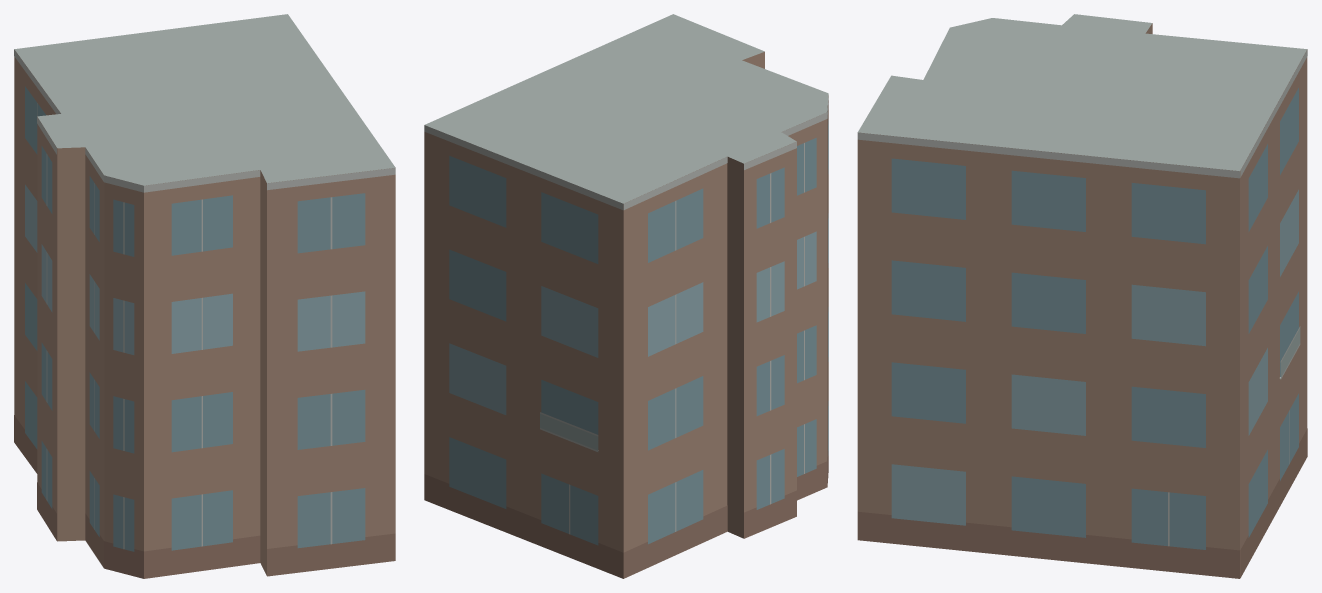
File: survey-upis-32970142.glb
3 views of the same model, side by side, from view 1: azimuth 30°, elevation 25°; view 2: azimuth 150°, elevation 25°; view 3: azimuth 270°, elevation 25° (orthographic). The views are drawn at different scales.
Parts seen in each view (by area): view 1: survey-upis-32970142.tmp; view 2: survey-upis-32970142.tmp; view 3: survey-upis-32970142.tmp.
Part boxes in pixels (bbox=[...]): survey-upis-32970142.tmp: bbox=[14, 14, 395, 578]; survey-upis-32970142.tmp: bbox=[424, 14, 828, 578]; survey-upis-32970142.tmp: bbox=[857, 14, 1307, 578].
Bounding box in the file's own units: 11.39 × 13.77 × 13.78.
